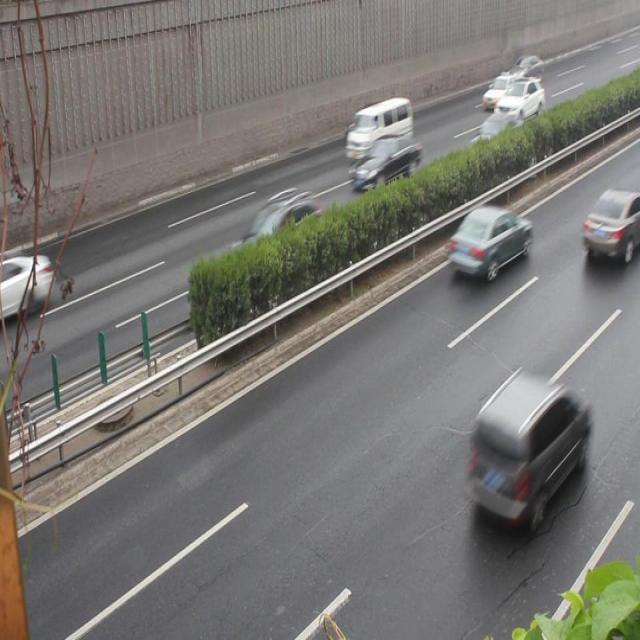car: (233, 187, 324, 275), (446, 203, 531, 281), (349, 133, 422, 196), (581, 186, 640, 262), (465, 112, 528, 168), (492, 75, 543, 123), (482, 72, 524, 109), (502, 54, 541, 86)
truck: (470, 368, 587, 522), (343, 98, 412, 162)
